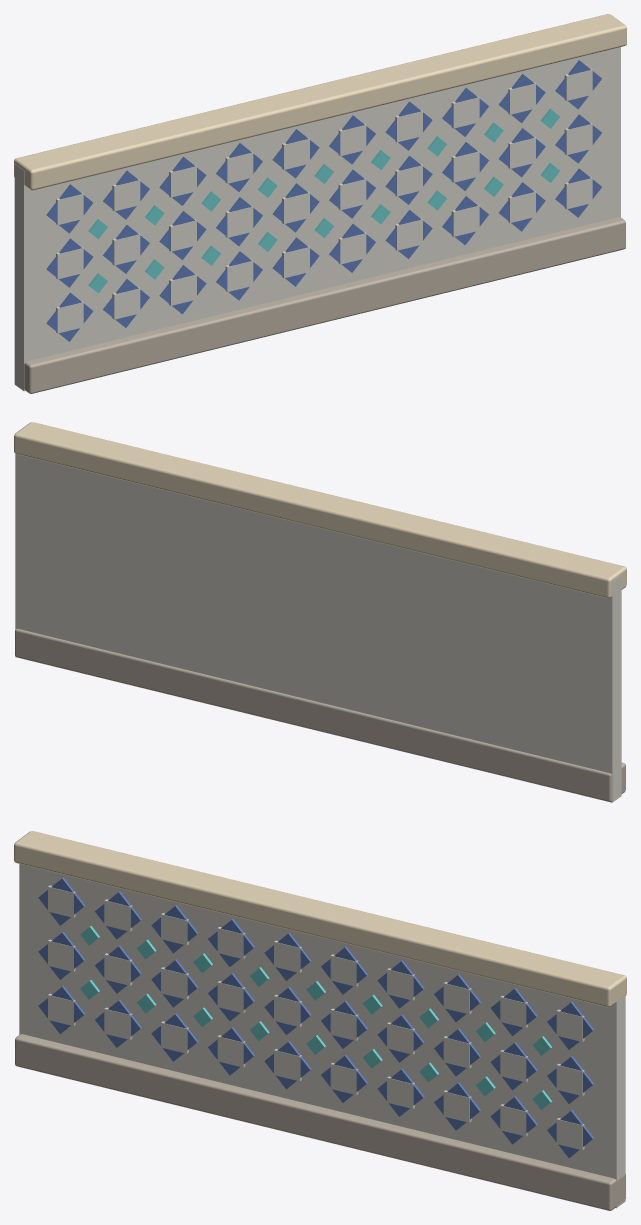
File: tiled-dado-panel-r-5edcd52f.glb
3 renders of one model, top to bottom at view 1: azimuth 30°, elevation 25°; view 2: azimuth 150°, elevation 25°; view 3: azimuth 330°, elevation 25°, orthographic.
Parts seen in each view (by area): view 1: tiled-dado-panel-run; view 2: tiled-dado-panel-run; view 3: tiled-dado-panel-run.
Boxes of the visible parts, <box> form: tiled-dado-panel-run: <box>14,14,626,393</box>; tiled-dado-panel-run: <box>14,422,626,802</box>; tiled-dado-panel-run: <box>14,831,626,1210</box>.
Bounding box in the file's own units: 3 × 1.08 × 0.16.
